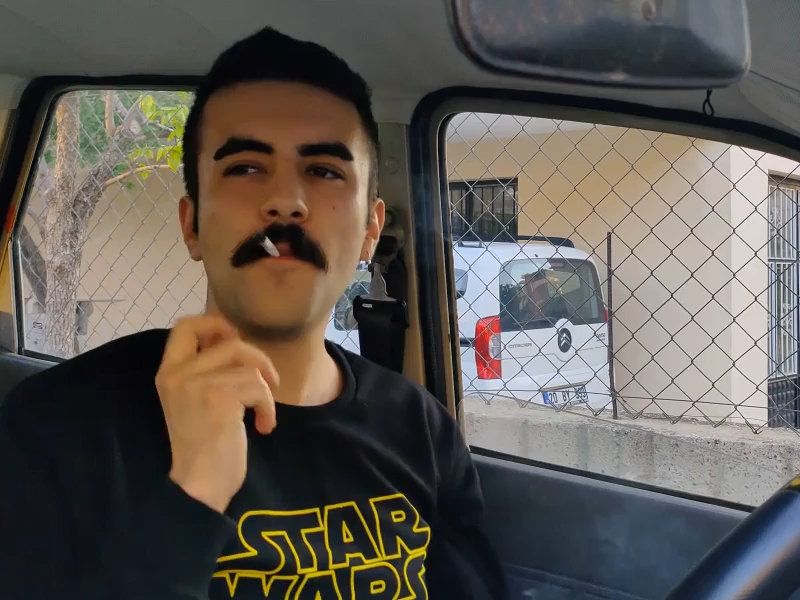sigara: (255, 233, 282, 260)
